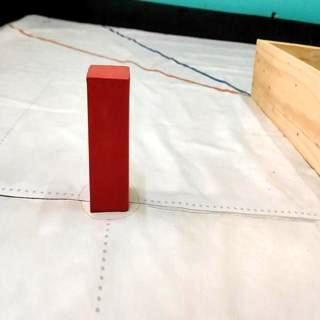redbox: (86, 64, 132, 214)
